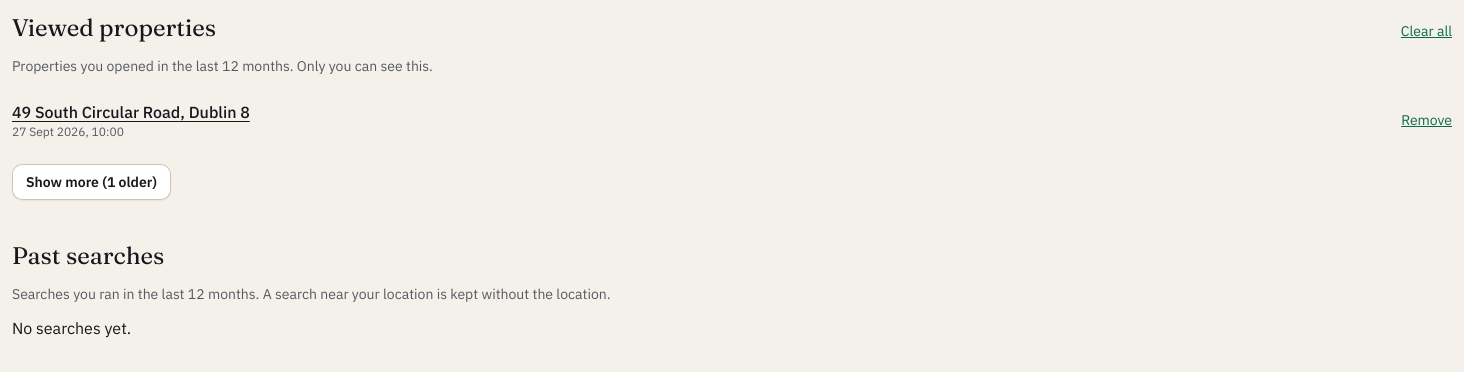
it: History › loads older entries a page at a time
What coordinates should you click on to do the following:
click the button "Show more (1 older)"
I would click on:
 (92, 182)
Its box is [12,164,171,200].
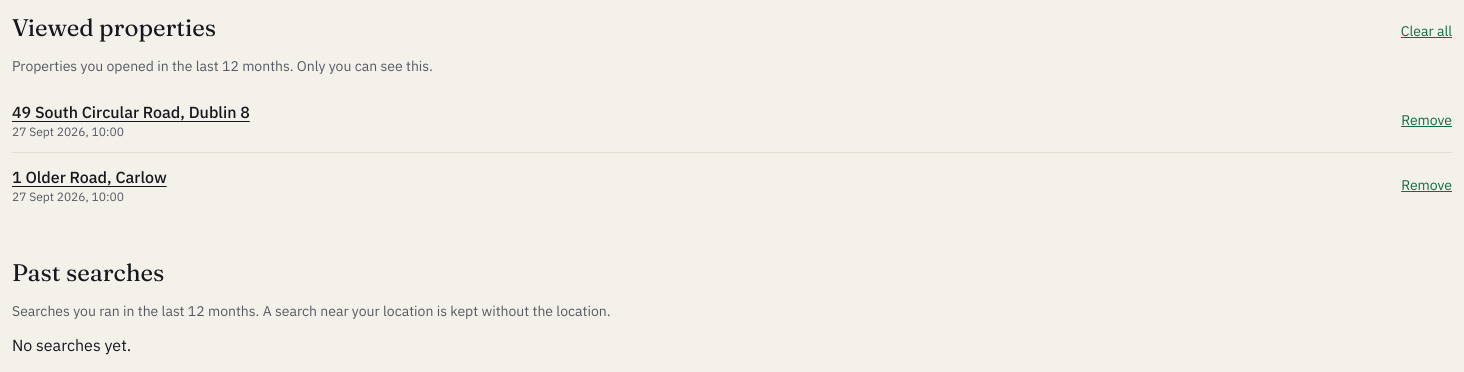
Expected: the link "1 Older Road, Carlow" is shown, [12,167,167,187]
Expected: the button "Show more" is gone
